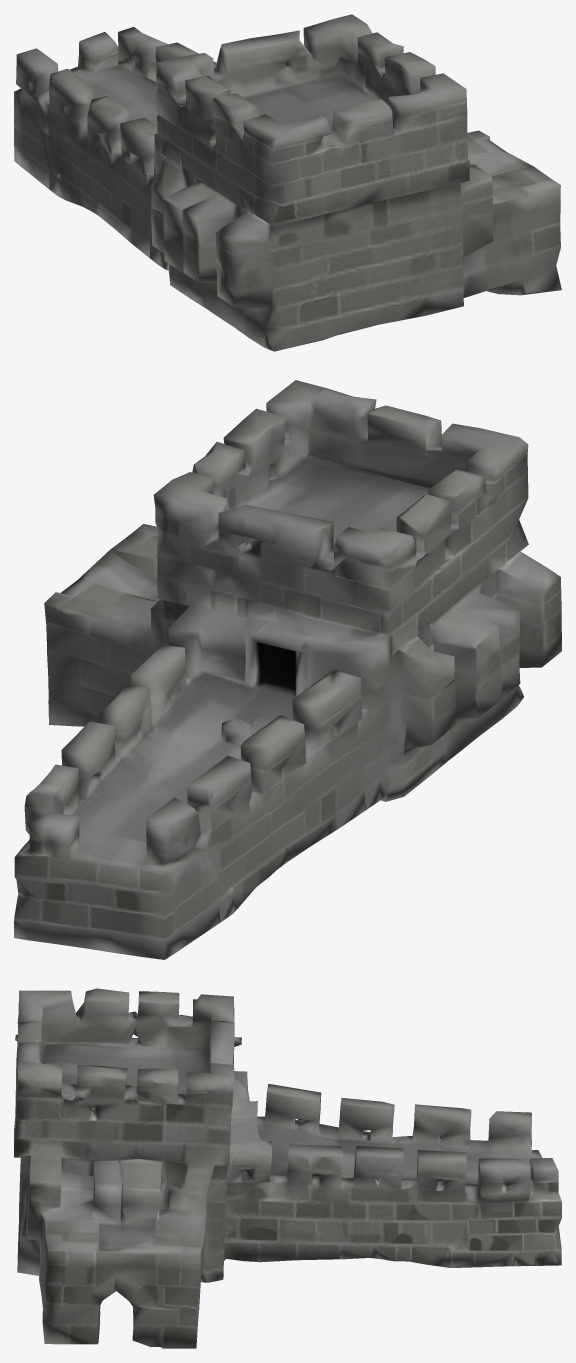
Rendered from great-wall-of-china.glb.
3 views of the same model, one above another, from view 1: azimuth 30°, elevation 25°; view 2: azimuth 150°, elevation 25°; view 3: azimuth 270°, elevation 25° (orthographic). The views are drawn at different scales.
Parts seen in each view (by area): view 1: tripo_node_df17d799-a9fc-4694-a744-36f8cc5a9760; view 2: tripo_node_df17d799-a9fc-4694-a744-36f8cc5a9760; view 3: tripo_node_df17d799-a9fc-4694-a744-36f8cc5a9760.
Part boxes in pixels (left/top/right/bottom): tripo_node_df17d799-a9fc-4694-a744-36f8cc5a9760: left=14, top=14, right=561, bottom=351; tripo_node_df17d799-a9fc-4694-a744-36f8cc5a9760: left=14, top=380, right=561, bottom=959; tripo_node_df17d799-a9fc-4694-a744-36f8cc5a9760: left=14, top=988, right=561, bottom=1348.
Size of the model in its own units: 0.6683 by 0.4585 by 1.
1 material, 1 textured.
